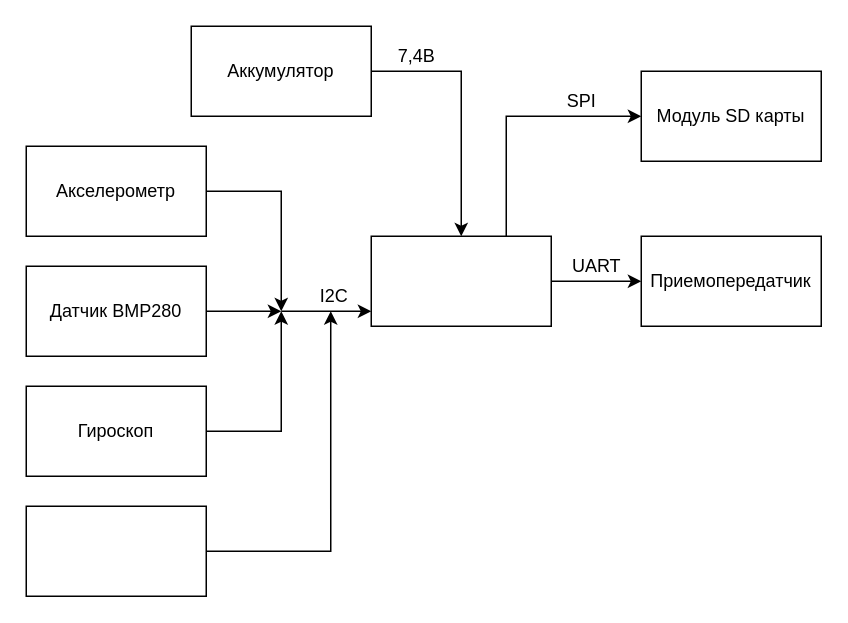
Some shapes in this 848 by 623 pixel diagram are drawn without their labels. Here are the shapes that lost their labels. From the top down, the centre of each, then its label:
At (460,280): "Микроконтроллер".
At (115,550): "Магнитометр".
